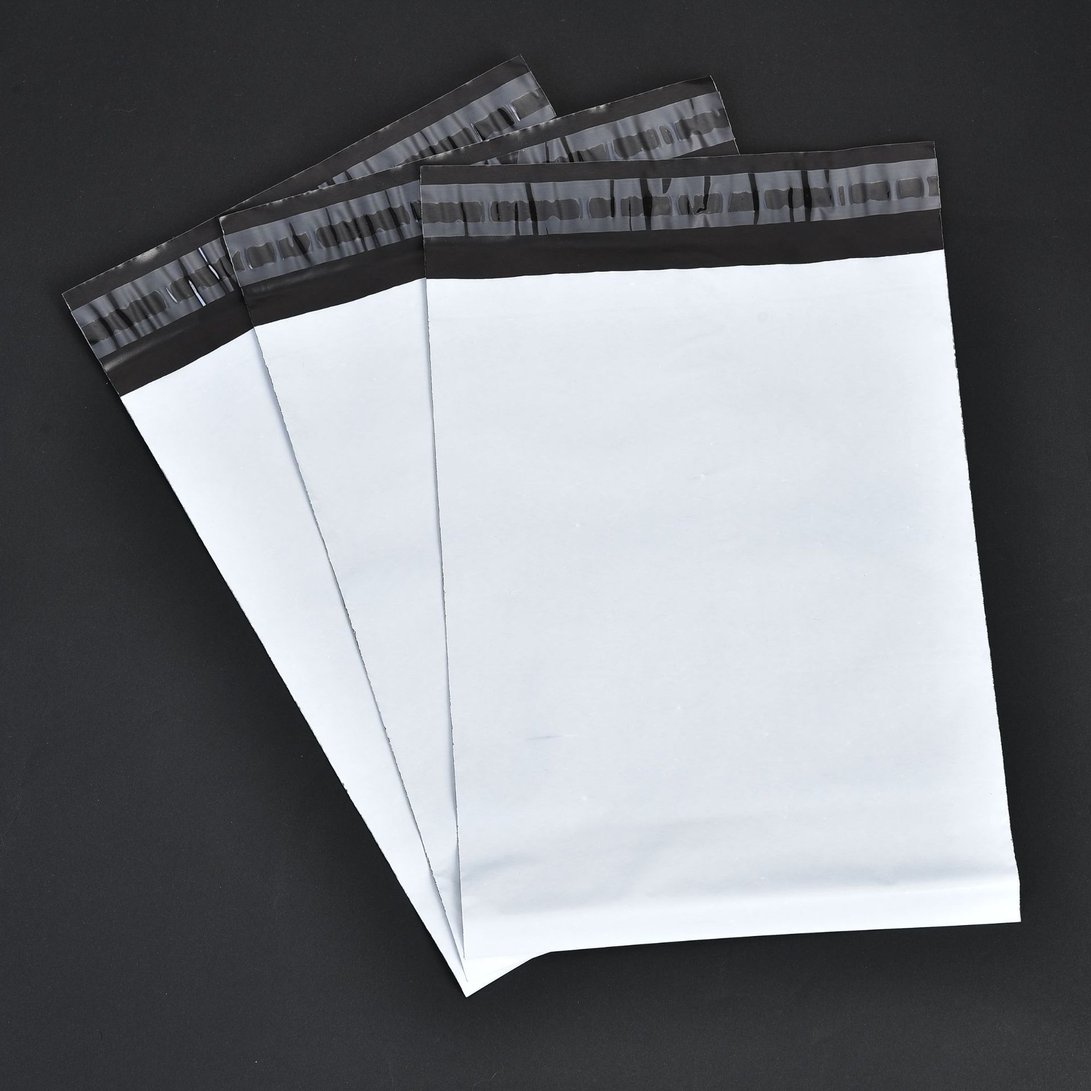Parcel: (70, 70, 1019, 991)
